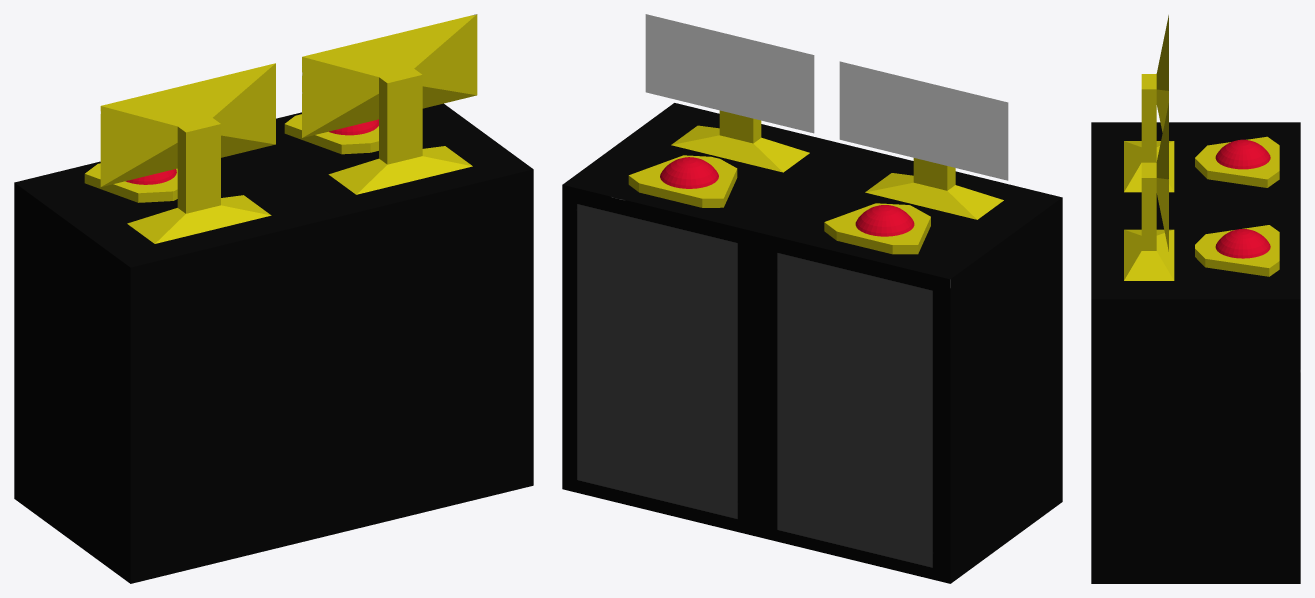
File: CameraTable.fbx
The picture shows the model from 3 angles, left to right: view 1: azimuth 30°, elevation 25°; view 2: azimuth 150°, elevation 25°; view 3: azimuth 270°, elevation 25°; orthographic projection. The views are drawn at different scales.
Parts seen in each view (by area): view 1: Cube; view 2: Cube; view 3: Cube.
Boxes of the visible parts, left/top/right/bottom form: Cube: left=14, top=14, right=533, bottom=583; Cube: left=562, top=14, right=1062, bottom=583; Cube: left=1091, top=15, right=1300, bottom=583.
Size of the model in its own units: 200 by 100 by 210.
